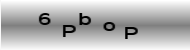6: (37, 12, 50, 27)
P: (123, 26, 139, 39), (61, 24, 76, 37)
b: (77, 12, 91, 25)
o: (102, 21, 115, 31)
